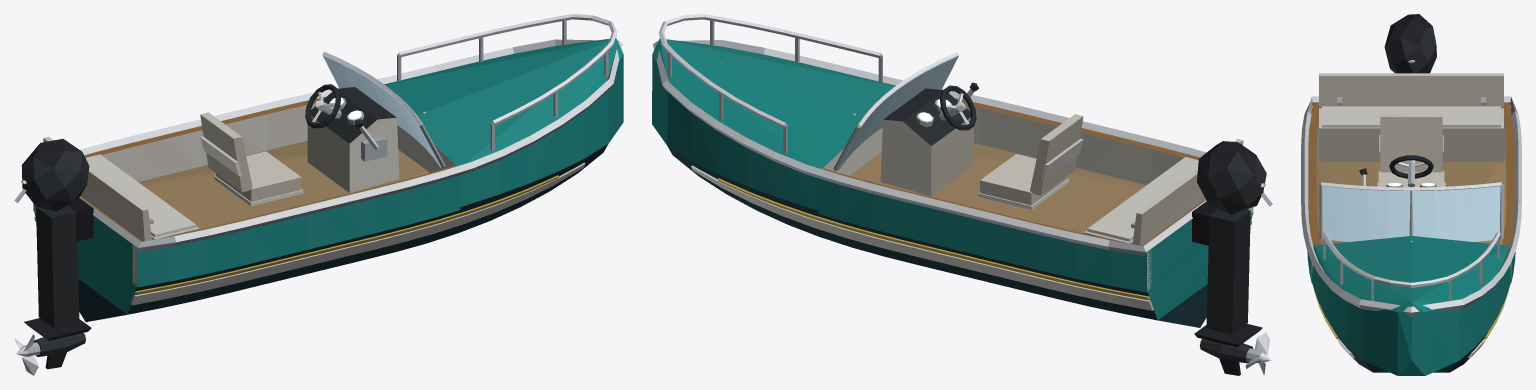
Rendered from mt_motorboat_teal.glb.
3 views of the same model, side by side, from view 1: azimuth 30°, elevation 25°; view 2: azimuth 150°, elevation 25°; view 3: azimuth 270°, elevation 25° (orthographic). The views are drawn at different scales.
Visible parts, largest first — view 1: base, steer_m, prop_m; view 2: base, steer_m, prop_m; view 3: base, steer_m.
Part boxes in pixels (x1,y1,x2,y2): base: (14,14,623,369); steer_m: (305,84,341,128); prop_m: (15,334,40,375); base: (652,14,1272,375); steer_m: (939,85,976,130); prop_m: (1245,332,1270,374); base: (1301,14,1521,375); steer_m: (1389,155,1433,187).
Size of the model in its own units: 1.09 by 0.3884 by 0.368.
